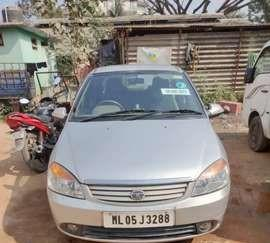ML05J3288: (102, 209, 173, 226)
